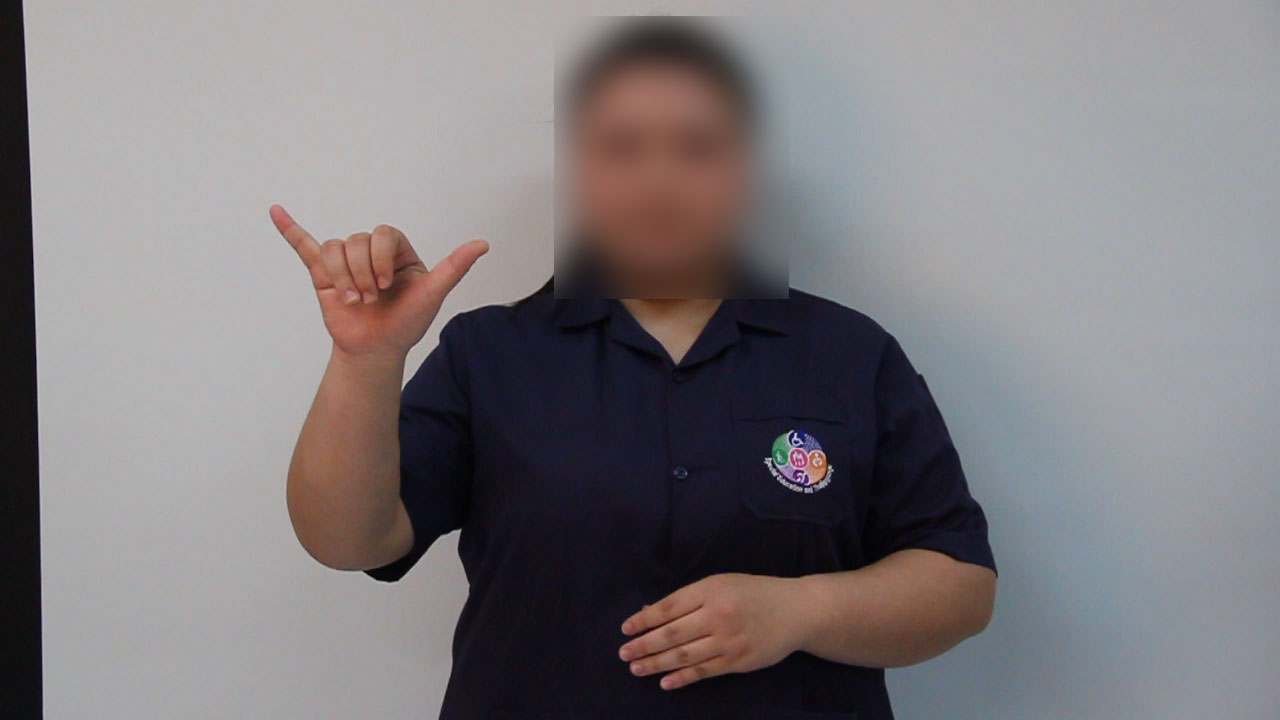yor: (260, 196, 506, 375)
